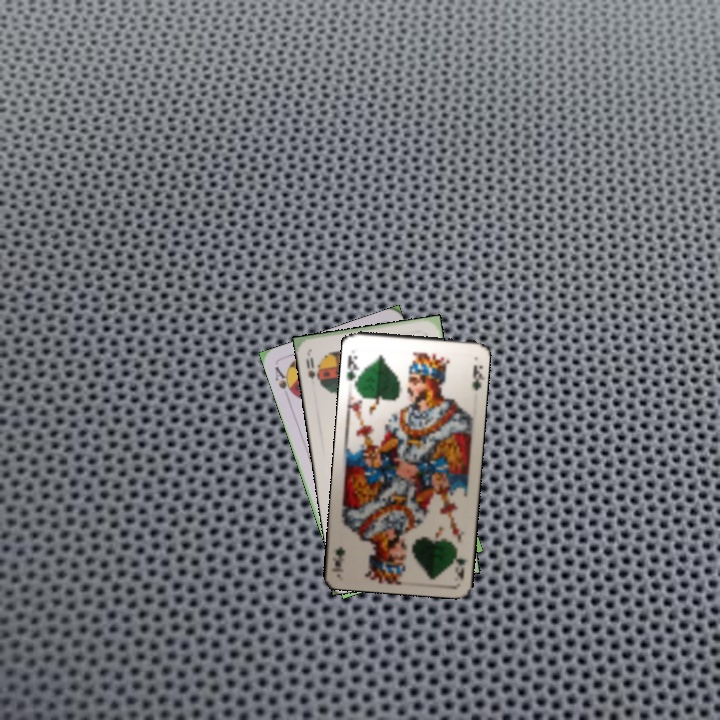GK: (449, 541, 469, 582), (343, 351, 363, 385)
SA: (271, 362, 297, 401)
SO: (302, 353, 323, 388)
